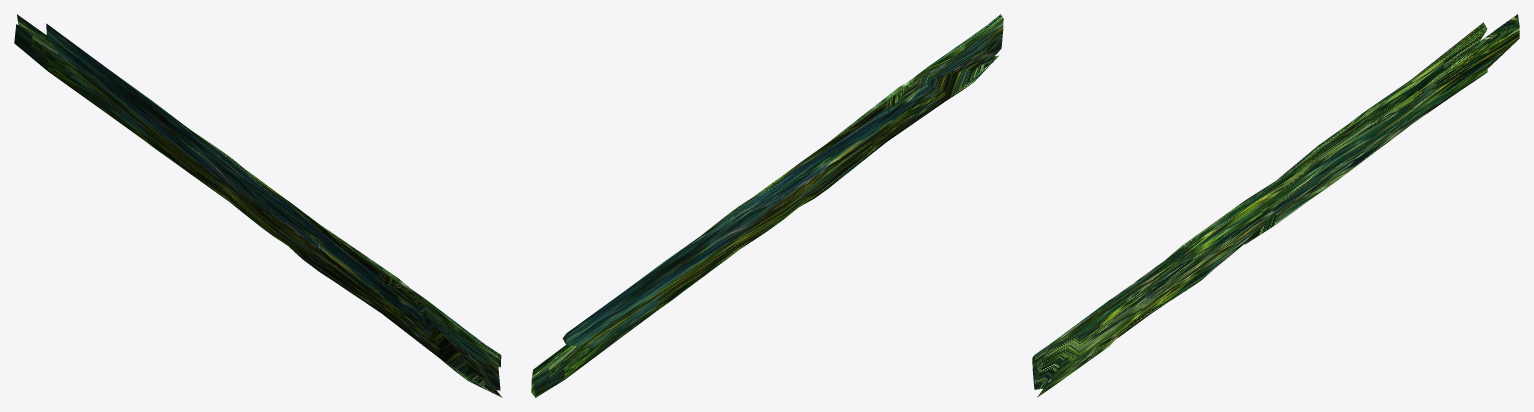
3 views of the same model, side by side, from view 1: azimuth 30°, elevation 25°; view 2: azimuth 150°, elevation 25°; view 3: azimuth 330°, elevation 25° (orthographic). The views are drawn at different scales.
Parts seen in each view (by area): view 1: algae_cube_Cube; view 2: algae_cube_Cube; view 3: algae_cube_Cube.
Boxes of the visible parts, box(x1,y1,x2,y2) form: algae_cube_Cube: box(14, 14, 502, 397); algae_cube_Cube: box(531, 14, 1003, 397); algae_cube_Cube: box(1032, 14, 1519, 397).
Size of the model in its own units: 0.0155 by 0.1679 by 2.98.
